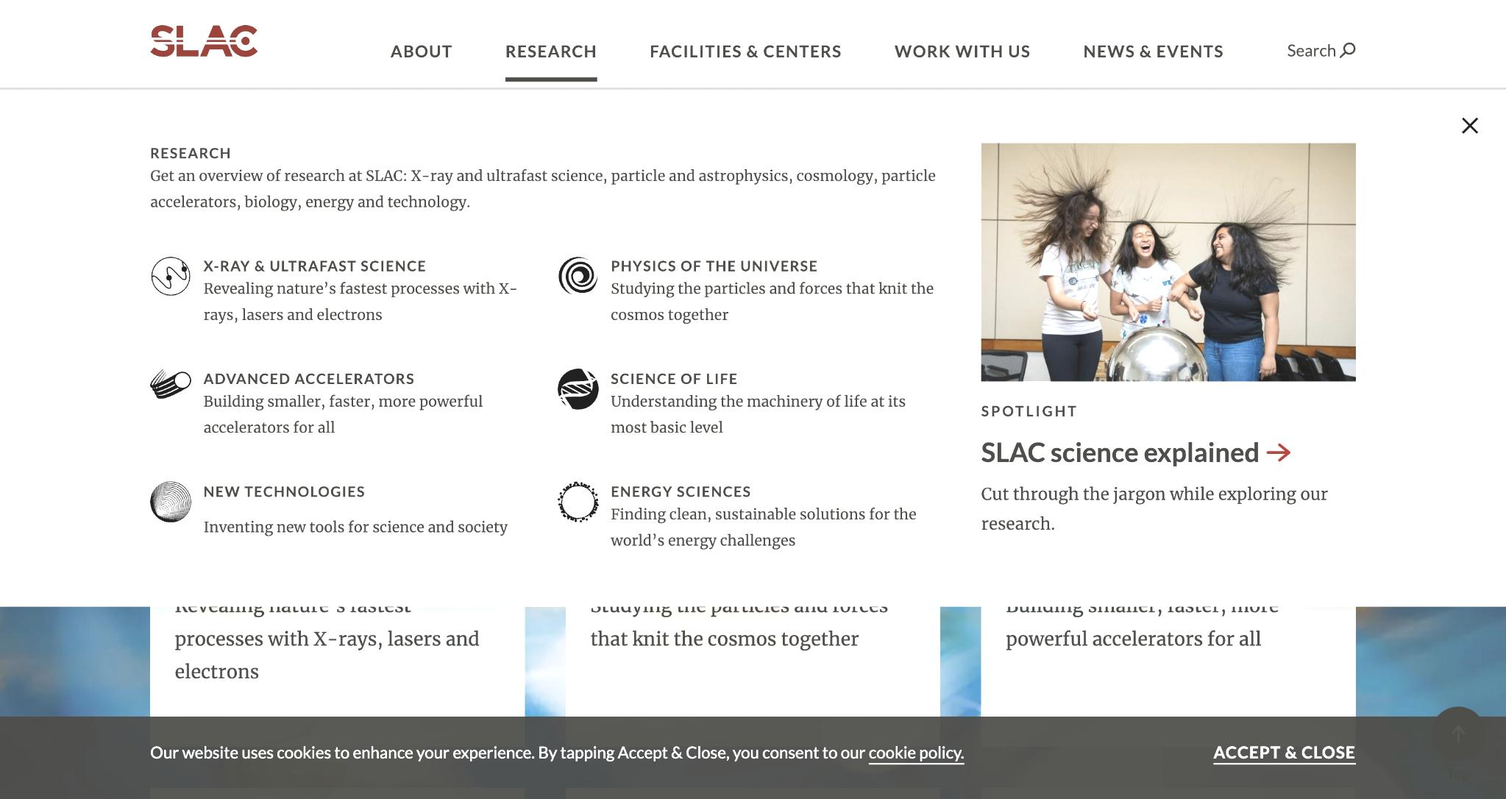webelement: (0, 0, 1505, 88), (0, 716, 1505, 798), (981, 143, 1354, 381), (150, 15, 1356, 61), (150, 162, 940, 213), (590, 589, 915, 688), (1005, 589, 1330, 688), (175, 589, 499, 688), (150, 202, 762, 254), (981, 479, 1354, 538), (150, 741, 964, 765), (203, 275, 532, 326), (610, 275, 939, 326), (203, 388, 532, 439), (610, 388, 939, 439), (610, 501, 939, 551), (203, 514, 532, 553), (540, 202, 762, 254), (203, 480, 532, 513), (175, 537, 498, 569), (981, 435, 1292, 467), (590, 537, 895, 569), (203, 255, 532, 275), (610, 255, 939, 275), (203, 367, 532, 387), (610, 367, 939, 387), (610, 480, 939, 500), (150, 24, 343, 56), (1130, 537, 1311, 569), (1144, 435, 1293, 467), (758, 537, 893, 569), (376, 537, 497, 569), (650, 40, 841, 60), (1214, 741, 1356, 765), (1431, 706, 1485, 760), (1084, 40, 1223, 60), (894, 40, 1030, 60), (1445, 100, 1495, 150), (868, 741, 963, 765), (1431, 764, 1485, 799), (505, 40, 597, 60), (557, 367, 598, 408), (557, 480, 598, 521), (557, 255, 598, 295), (150, 480, 190, 521), (150, 255, 190, 295), (1287, 39, 1356, 61), (150, 144, 231, 161), (390, 40, 452, 60), (150, 367, 190, 398), (1446, 764, 1470, 781), (1449, 724, 1467, 743)
